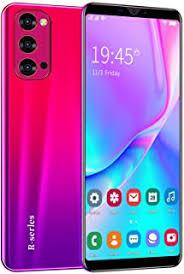Smartphone: (85, 11, 180, 267), (7, 4, 85, 265)
